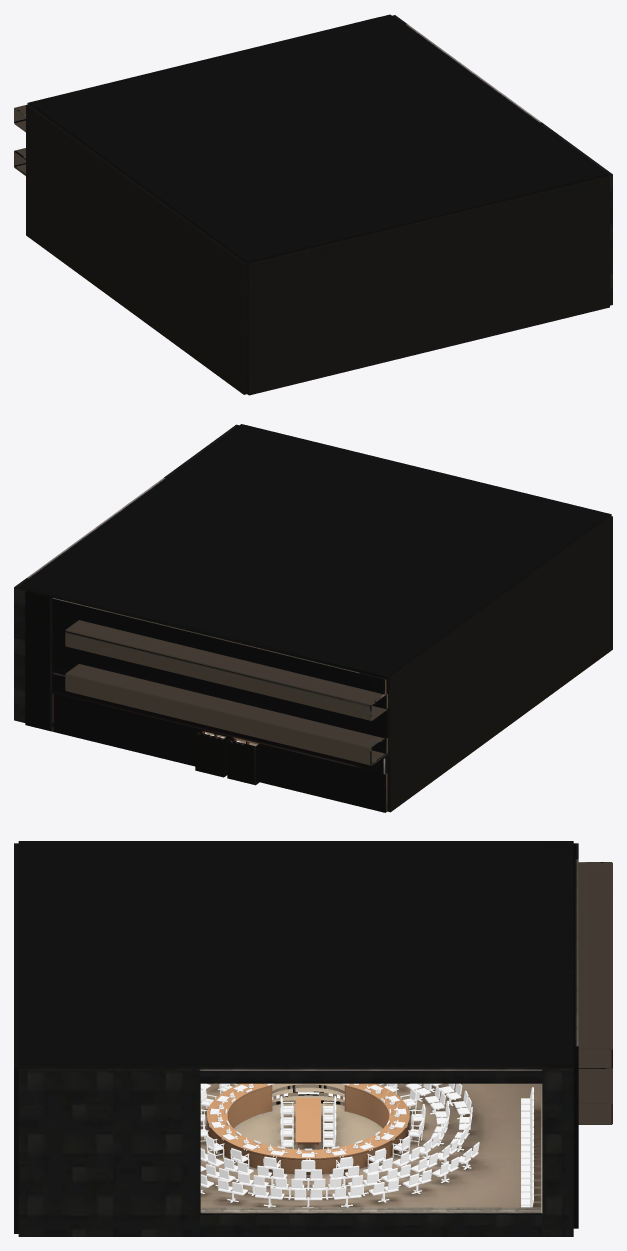
The model's file is albright-un-security-council-mobile.glb.
3 renders of one model, top to bottom at view 1: azimuth 30°, elevation 25°; view 2: azimuth 150°, elevation 25°; view 3: azimuth 270°, elevation 25°, orthographic. The views are drawn at different scales.
Visible parts, largest first — view 1: ceiling, wall_south, wall_west, wall_east_0; view 2: ceiling, wall_west, wall_north_7, wall_north_2, wall_north_5, booth_0_back, wall_north_0, booth_1_back, booth_1_ceil, booth_0_ceil, wall_behind_drape, wall_north_3 (+5 smaller); view 3: ceiling, wall_east_0, floor, wall_east_3, booth_1_ceil, wall_east_2, wall_east_1, artifact_horseshoe_table, well_floor, table_front_inner, wall_south, table_front_outer (+8 smaller).
Boxes of the visible parts, bbox=[...] form: ceiling: bbox=[29, 14, 607, 263]; wall_south: bbox=[247, 175, 609, 395]; wall_west: bbox=[26, 104, 247, 394]; wall_east_0: bbox=[539, 122, 612, 305]; ceiling: bbox=[19, 424, 609, 678]; wall_west: bbox=[387, 515, 612, 812]; wall_north_7: bbox=[52, 597, 387, 694]; wall_north_2: bbox=[52, 693, 198, 766]; wall_north_5: bbox=[52, 629, 387, 738]; booth_0_back: bbox=[65, 674, 371, 764]; wall_north_0: bbox=[260, 744, 387, 812]; booth_1_back: bbox=[65, 630, 371, 720]; booth_1_ceil: bbox=[65, 620, 386, 705]; booth_0_ceil: bbox=[65, 664, 386, 749]; wall_behind_drape: bbox=[25, 590, 53, 731]; wall_north_3: bbox=[52, 674, 387, 774]; ceiling: bbox=[18, 841, 573, 1067]; wall_east_0: bbox=[18, 1067, 199, 1236]; floor: bbox=[200, 1083, 541, 1207]; wall_east_3: bbox=[199, 1212, 542, 1236]; booth_1_ceil: bbox=[578, 862, 612, 1049]; wall_east_2: bbox=[199, 1067, 542, 1083]; wall_east_1: bbox=[542, 1067, 573, 1236]; artifact_horseshoe_table: bbox=[207, 1083, 409, 1159]; well_floor: bbox=[233, 1094, 382, 1149]; table_front_inner: bbox=[227, 1086, 388, 1128]; wall_south: bbox=[14, 843, 18, 1233]; table_front_outer: bbox=[207, 1121, 409, 1174].
Size of the model in its own units: 22.5 by 8.15 by 24.82.
5 materials, 4 textured.
